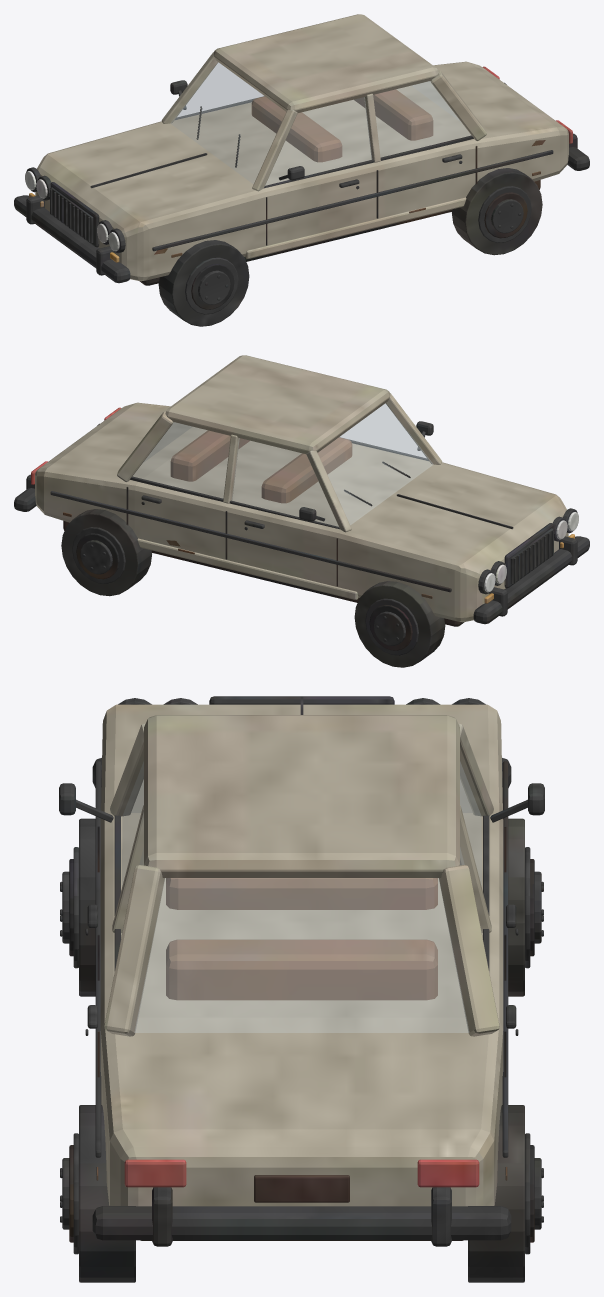
File: CV08_luxury_old_car.glb
3 views of the same model, one above another, from view 1: azimuth 30°, elevation 25°; view 2: azimuth 150°, elevation 25°; view 3: azimuth 270°, elevation 25° (orthographic). The views are drawn at different scales.
Visible parts, largest first — view 1: Faded cream sedan body; view 2: Faded cream sedan body; view 3: Faded cream sedan body.
Part boxes in pixels (x1,y1,x2,y2): Faded cream sedan body: (14,14,589,326); Faded cream sedan body: (14,355,589,667); Faded cream sedan body: (59,696,544,1282).
Bounding box in the file's own units: 4.8 × 1.78 × 2.11.
10 materials, 9 textured.
